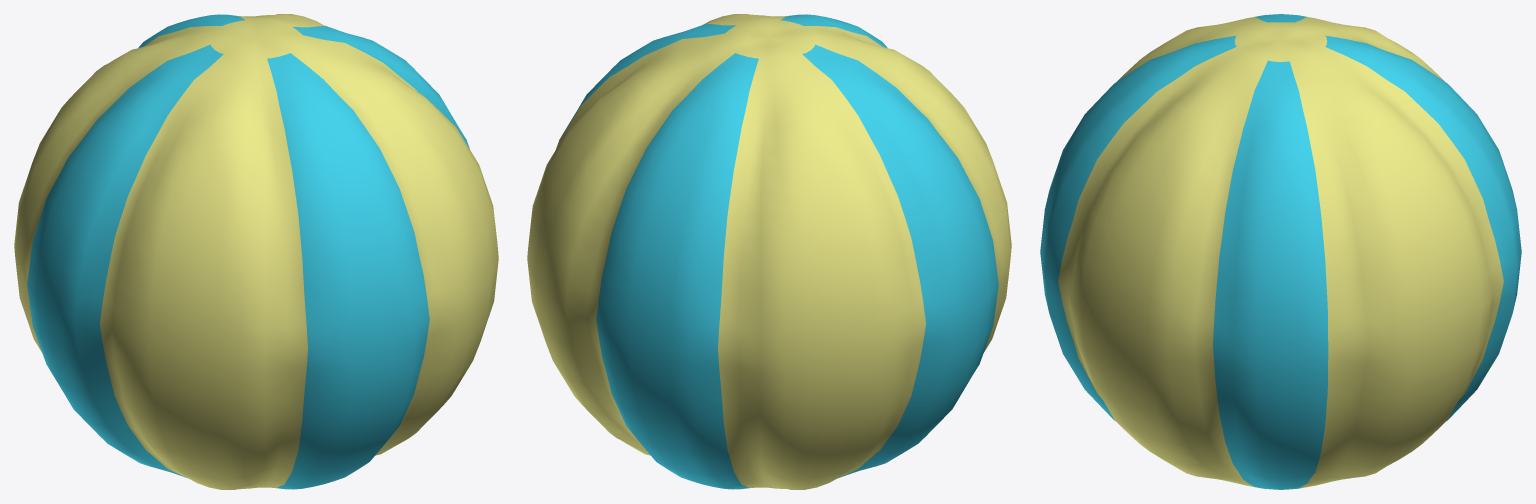
File: ball.fbx
The picture shows the model from 3 angles, left to right: view 1: azimuth 30°, elevation 25°; view 2: azimuth 150°, elevation 25°; view 3: azimuth 270°, elevation 25°; orthographic projection.
Visible parts, largest first — view 1: Sphere; view 2: Sphere; view 3: Sphere.
Boxes of the visible parts, box(x1,y1,x2,y2) form: Sphere: box(14, 14, 498, 489); Sphere: box(527, 14, 1011, 489); Sphere: box(1040, 14, 1521, 489).
Size of the model in its own units: 200 by 196 by 200.
